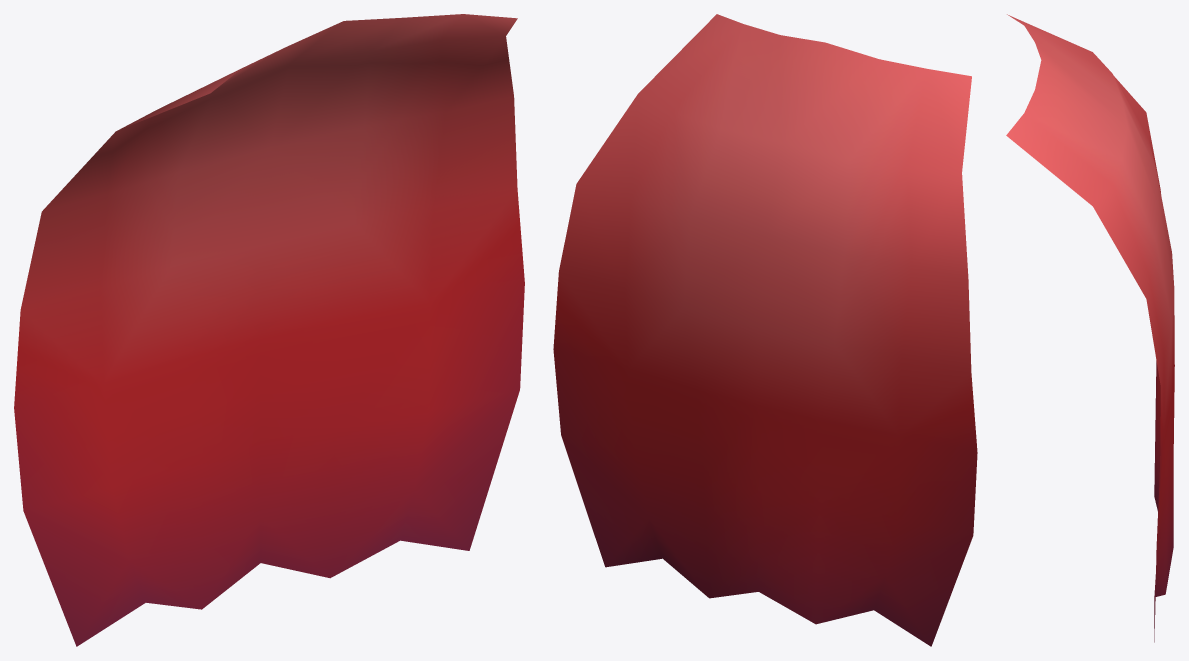
The model's file is kk-Knight_Cape.glb.
3 views of the same model, side by side, from view 1: azimuth 30°, elevation 25°; view 2: azimuth 150°, elevation 25°; view 3: azimuth 270°, elevation 25° (orthographic). The views are drawn at different scales.
Visible parts, largest first — view 1: Knight_Cape; view 2: Knight_Cape; view 3: Knight_Cape.
Part boxes in pixels (x1,y1,x2,y2): Knight_Cape: (14,14,524,646); Knight_Cape: (553,14,977,646); Knight_Cape: (1006,14,1174,642).
Bounding box in the file's own units: 0.9708 × 1.14 × 0.3426.
1 material, 1 textured.
